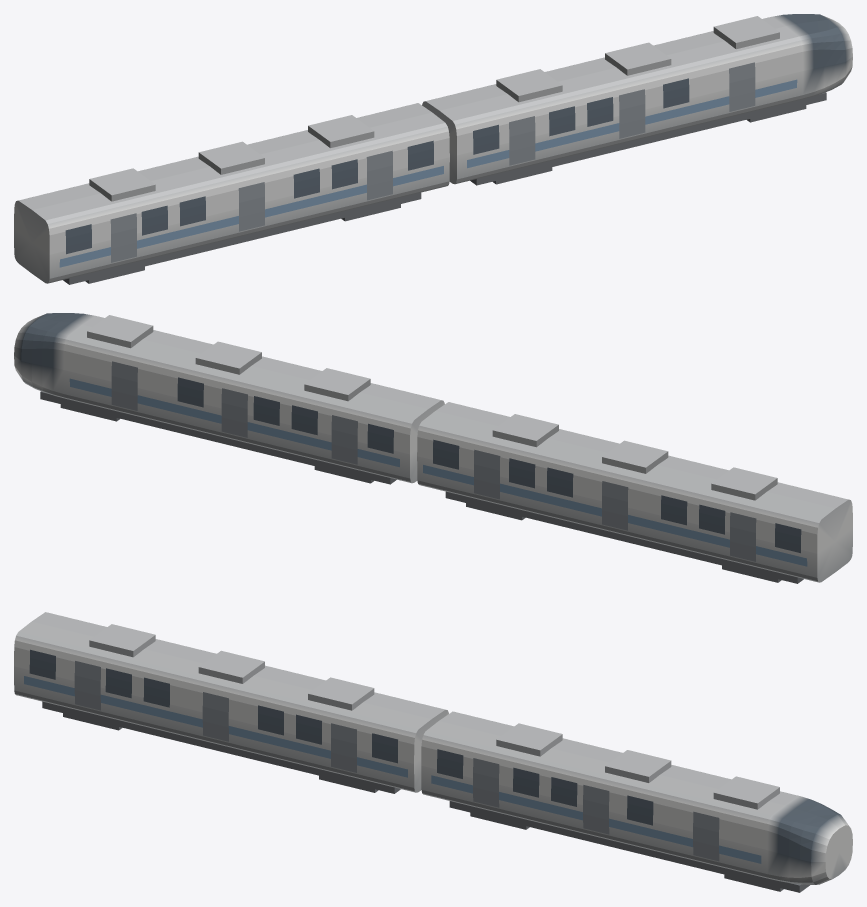
File: 02_HSR_MRT_3x2-05.glb
3 views of the same model, one above another, from view 1: azimuth 30°, elevation 25°; view 2: azimuth 150°, elevation 25°; view 3: azimuth 330°, elevation 25° (orthographic).
Bounding box in the file's own units: 40.36 × 3.88 × 3.14.
